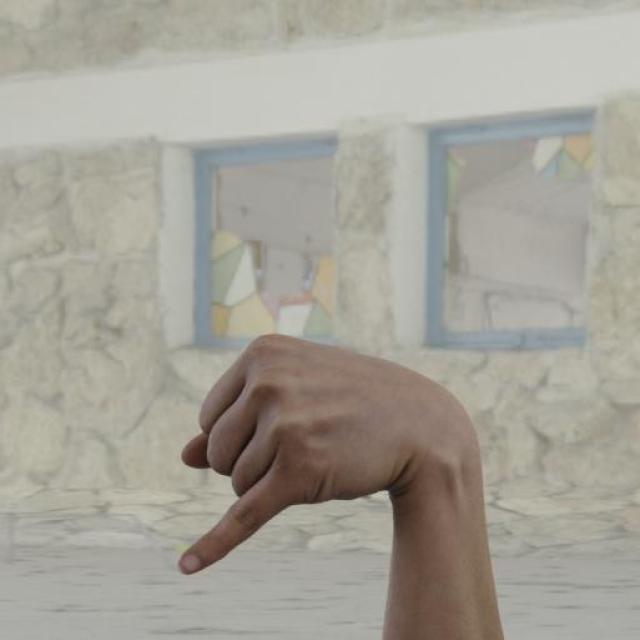J: (148, 300, 517, 600)
